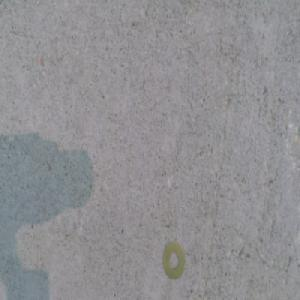Washer: (162, 243, 186, 282)
